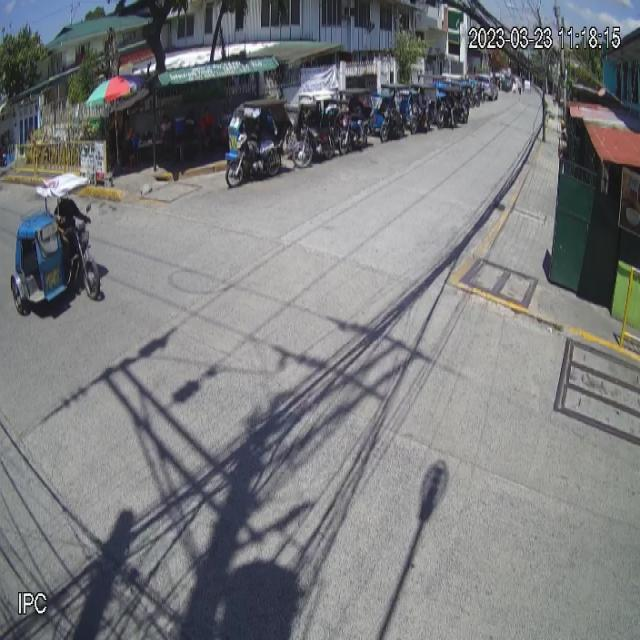Tricycle: (10, 171, 101, 314)
